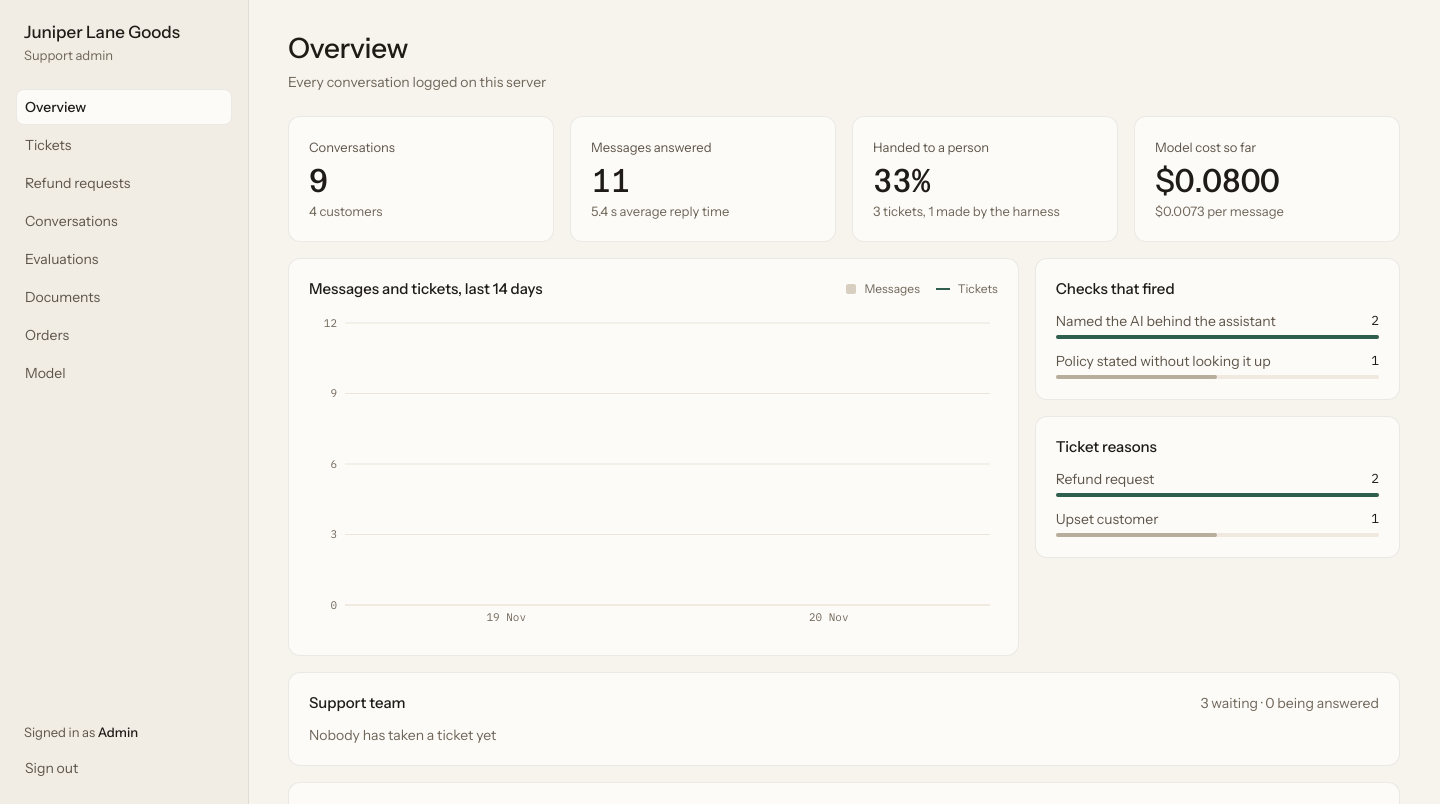
Test: tickets › lists tickets with masked emails, and filters them
Click the button "Tickets" at (124, 145), box [16,127,232,163]
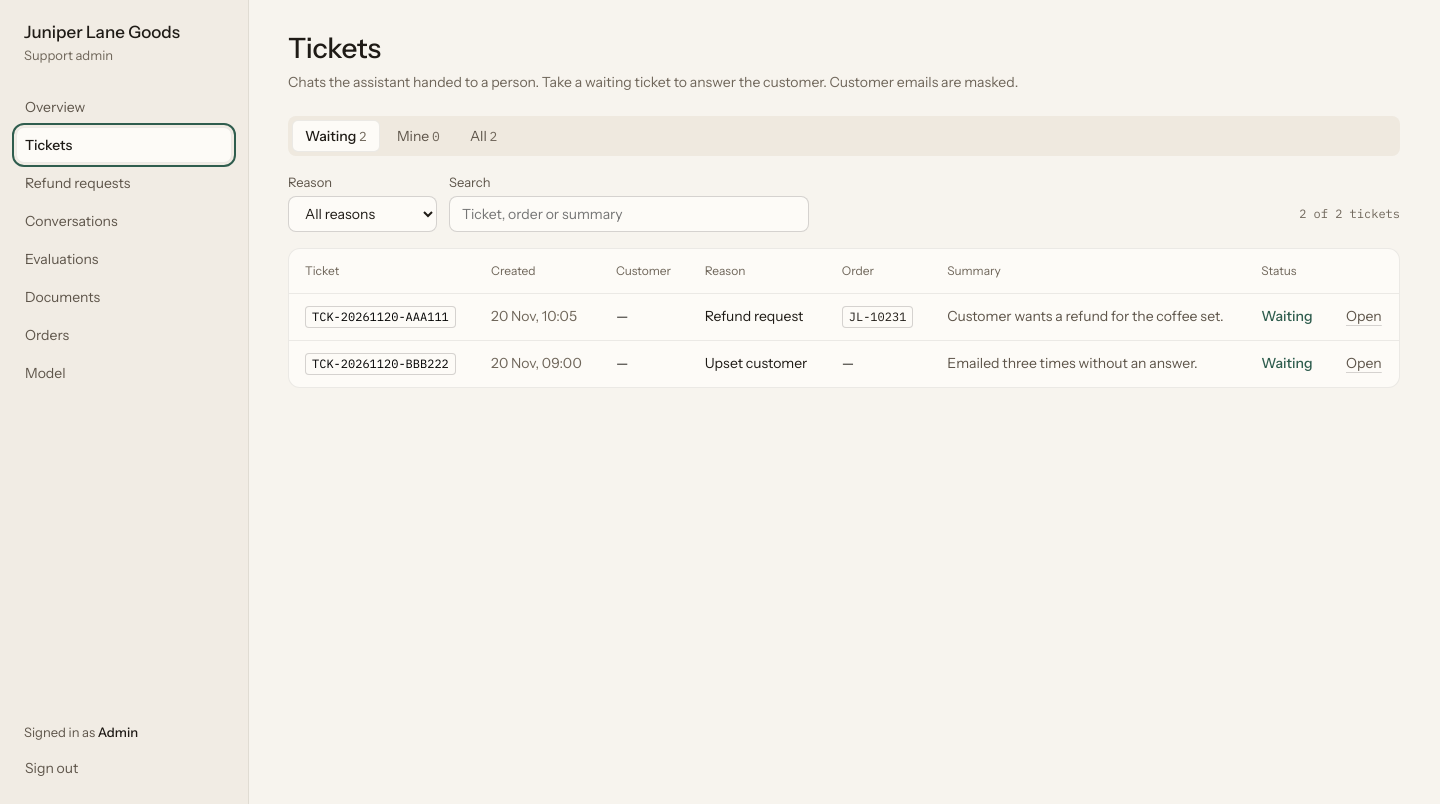
Expected: the text "TCK-20261120-AAA111" is shown, [305,306,456,328]
Expected: the text "2 of 2 tickets" is shown, [1299,206,1400,221]
Select "Refund request" in the dropdown labelled "Reason" at (362, 214), box [288,196,437,232]
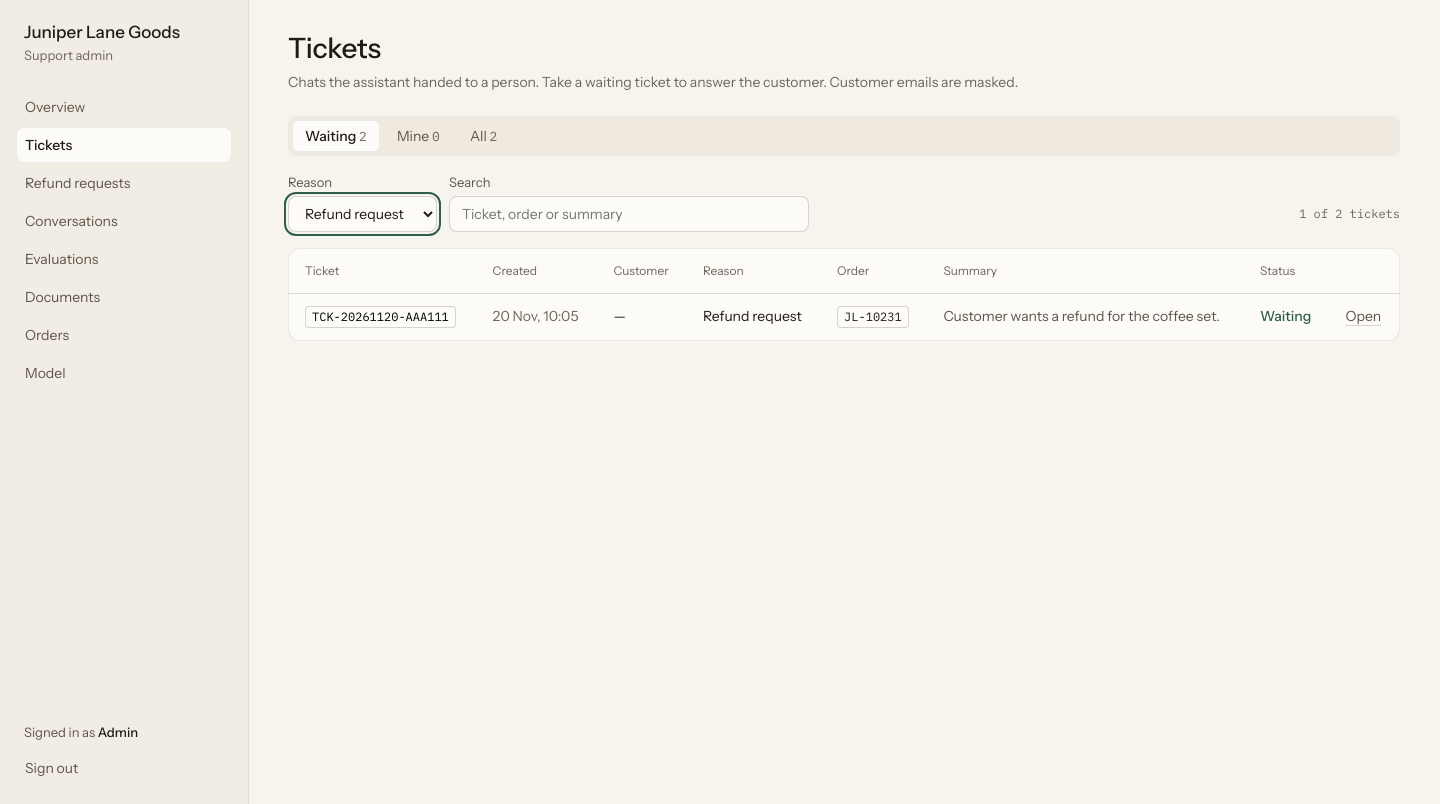
Expected: the text "1 of 2 tickets" is shown, [1299,206,1400,221]
Expected: the button "TCK-20261120-BBB222" is gone
Select "All reasons" in the dropdown labelled "Reason" at (362, 214), box [288,196,437,232]
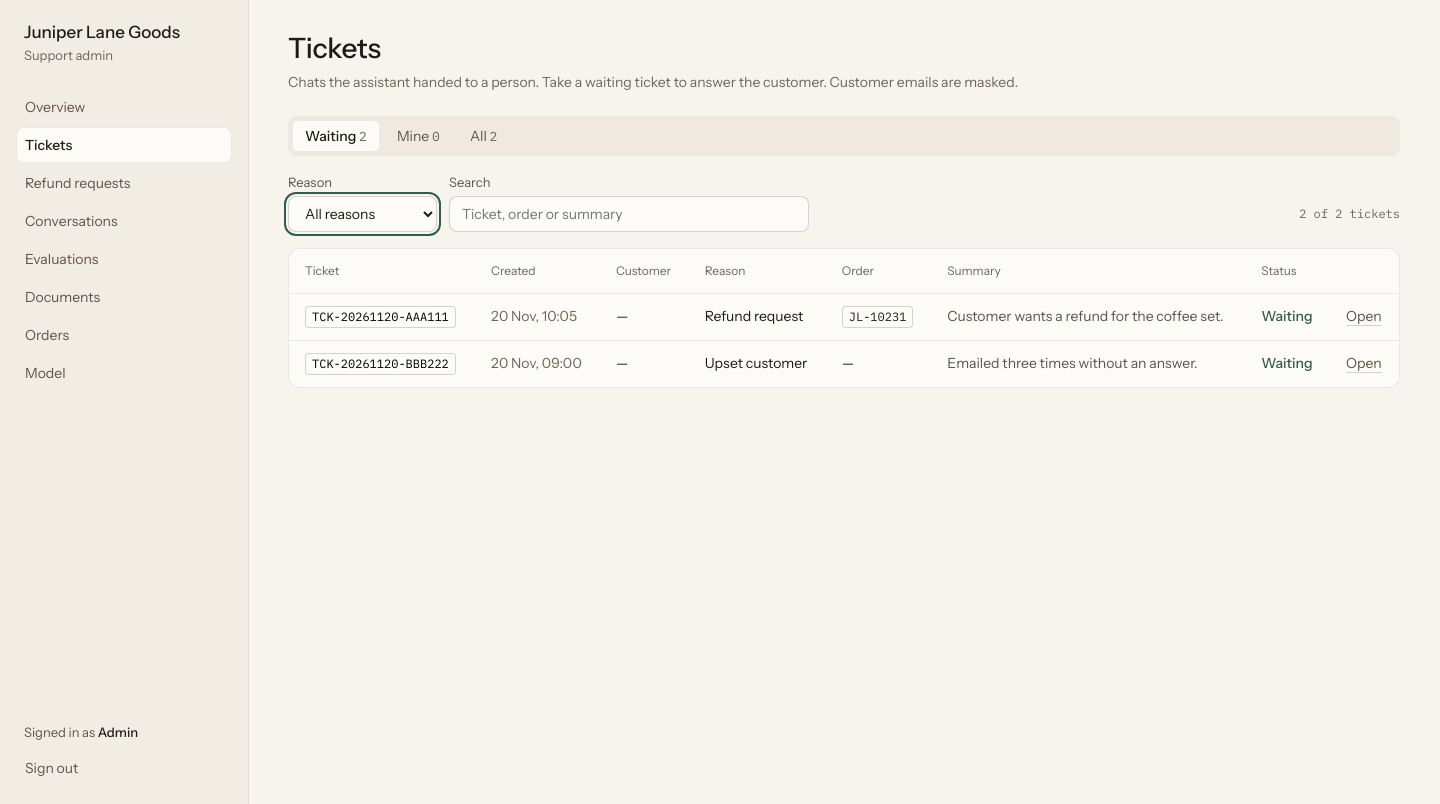
Type "emailed three" into the search field labelled "Search" at (629, 214), box [449,196,809,232]
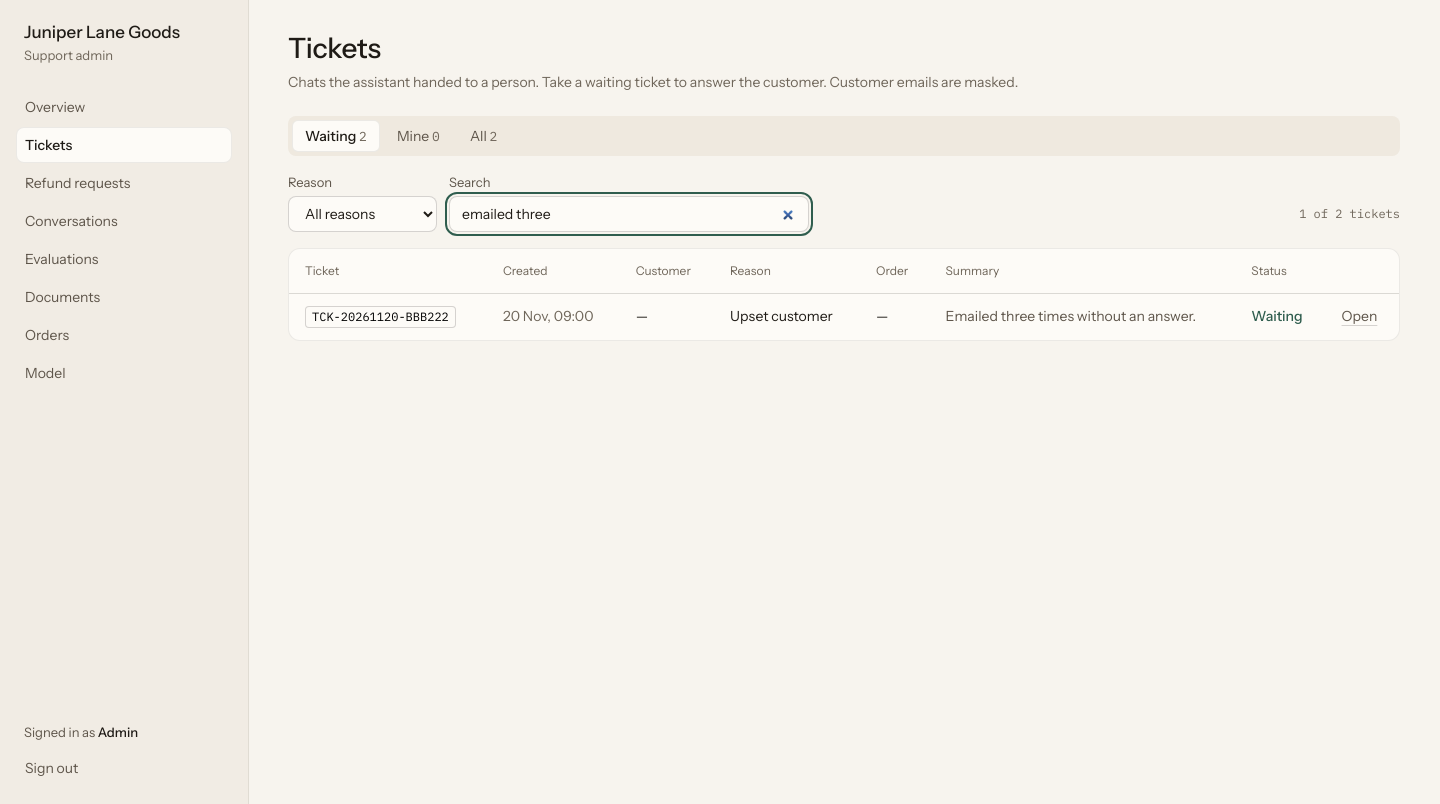
Expected: the text "1 of 2 tickets" is shown, [1299,206,1400,221]
